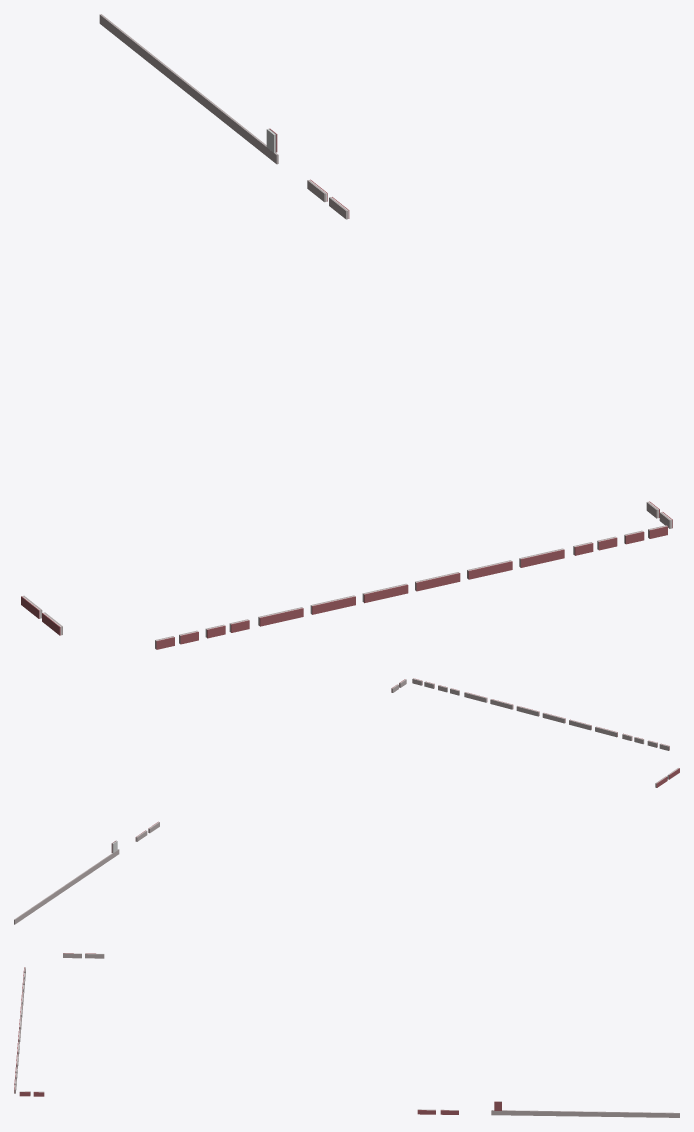
File: 20160125Autodesk_Hospital_Parking Garage_2015_Existing_Garage_-_3rd_Level_IfcWallStandardCase.dae
The picture shows the model from 3 angles, top to bottom: view 1: azimuth 30°, elevation 25°; view 2: azimuth 150°, elevation 25°; view 3: azimuth 270°, elevation 25°; orthographic projection. The views are drawn at different scales.
Visible parts, largest first — view 1: 1jjw93lYf4QP0IrrL41VF9; view 2: 1jjw93lYf4QP0IrrL41VF9; view 3: 1jjw93lYf4QP0IrrL41VF9.
Boxes of the visible parts, x1=… form: 1jjw93lYf4QP0IrrL41VF9: x1=99, y1=14, x2=278, y2=164; 1jjw93lYf4QP0IrrL41VF9: x1=14, y1=849, x2=119, y2=924; 1jjw93lYf4QP0IrrL41VF9: x1=491, y1=1110, x2=679, y2=1117.
Bounding box in the file's own units: 71.93 × 126 × 2.84.
